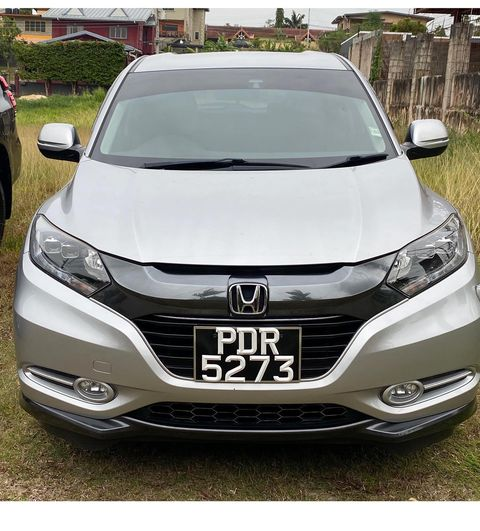License-Plate: (194, 326, 300, 382)
